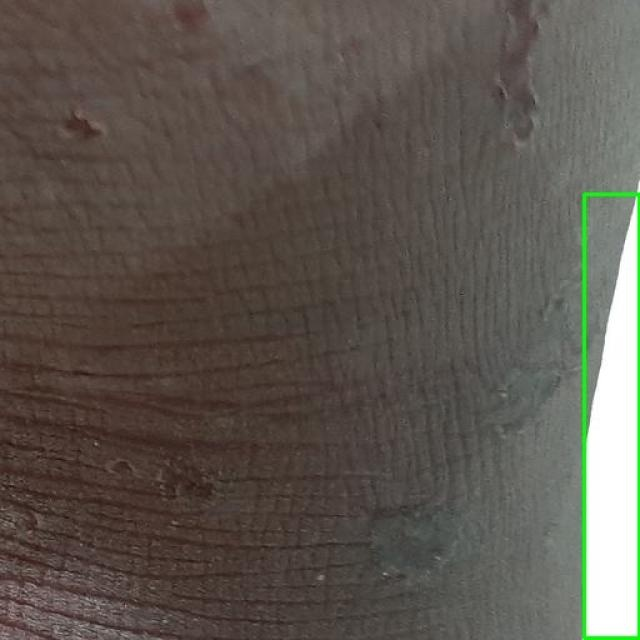Contact Dermatitis: (584, 195, 639, 639)
